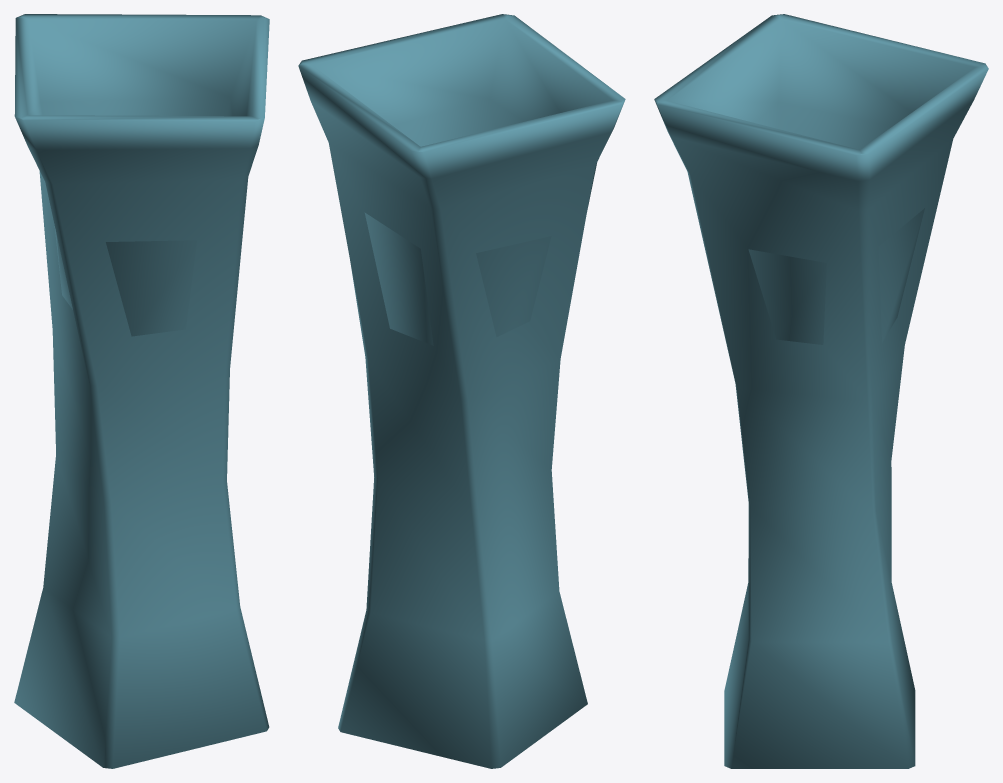
File: flowervase_B_c02.fbx
3 views of the same model, side by side, from view 1: azimuth 30°, elevation 25°; view 2: azimuth 150°, elevation 25°; view 3: azimuth 270°, elevation 25° (orthographic). The views are drawn at different scales.
Parts seen in each view (by area): view 1: vaseB_c2; view 2: vaseB_c2; view 3: vaseB_c2.
Part boxes in pixels (x1,y1,x2,y2): vaseB_c2: [14, 14, 269, 768]; vaseB_c2: [298, 14, 625, 768]; vaseB_c2: [654, 14, 988, 768].
Size of the model in its own units: 18.33 by 38.92 by 18.33.
